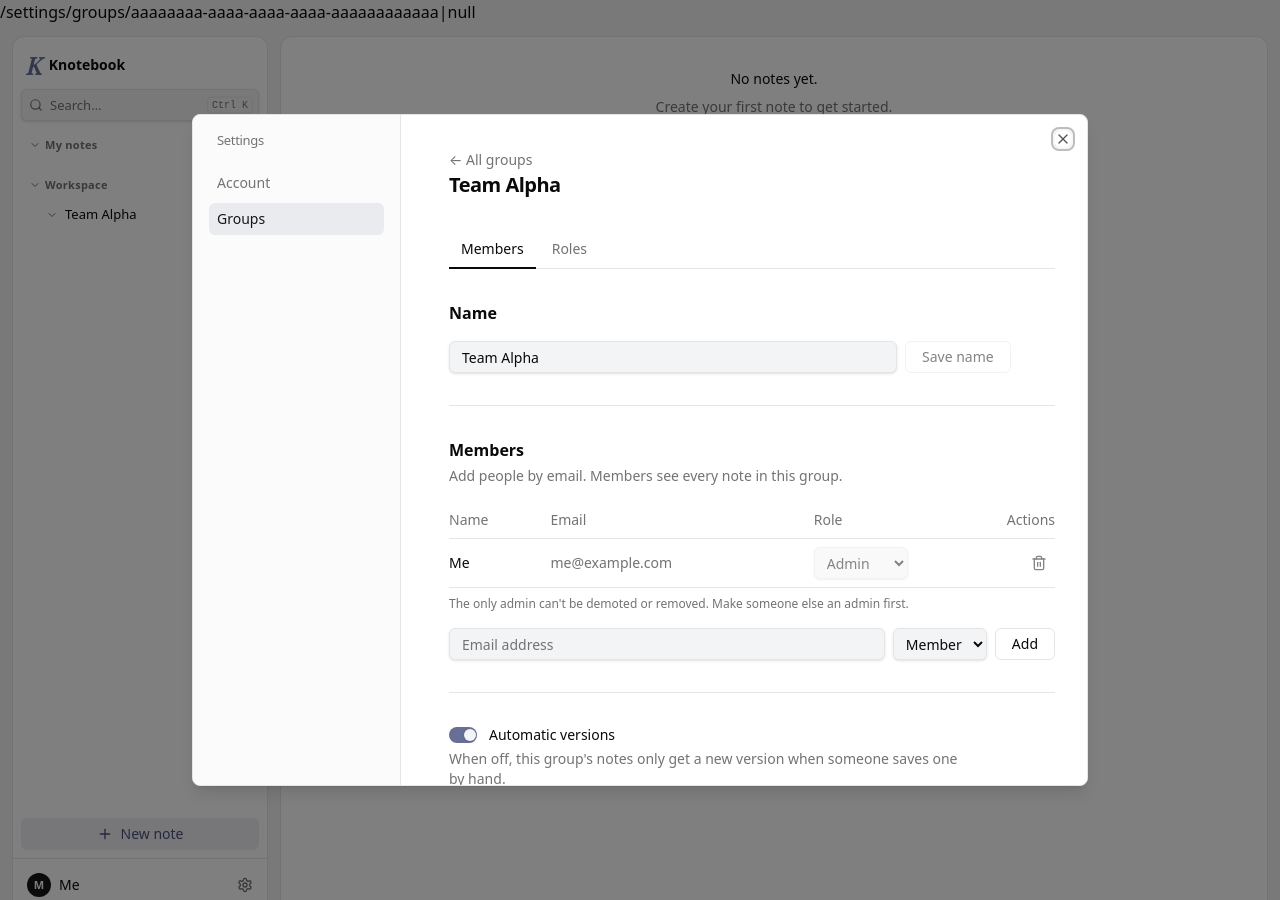
Test: SettingsGroupDetailSection（/settings/groups/:id，spec §8.5） › 加人：PUT {email, roleId}（下拉選管理員 → 管理員角色 id）→ 名單更新；送出後下拉回到內建一般成員的 id；409 already_member → 表單下 alert
The image size is (1280, 900).
Expected: the dropdown named "Role for new member" shows "Member", x1=893 y1=628 x2=987 y2=660
Type "carol@example.com" into the field labelled "Email address".
click(667, 644); type("carol@example.com")  # box x1=449 y1=628 x2=885 y2=660
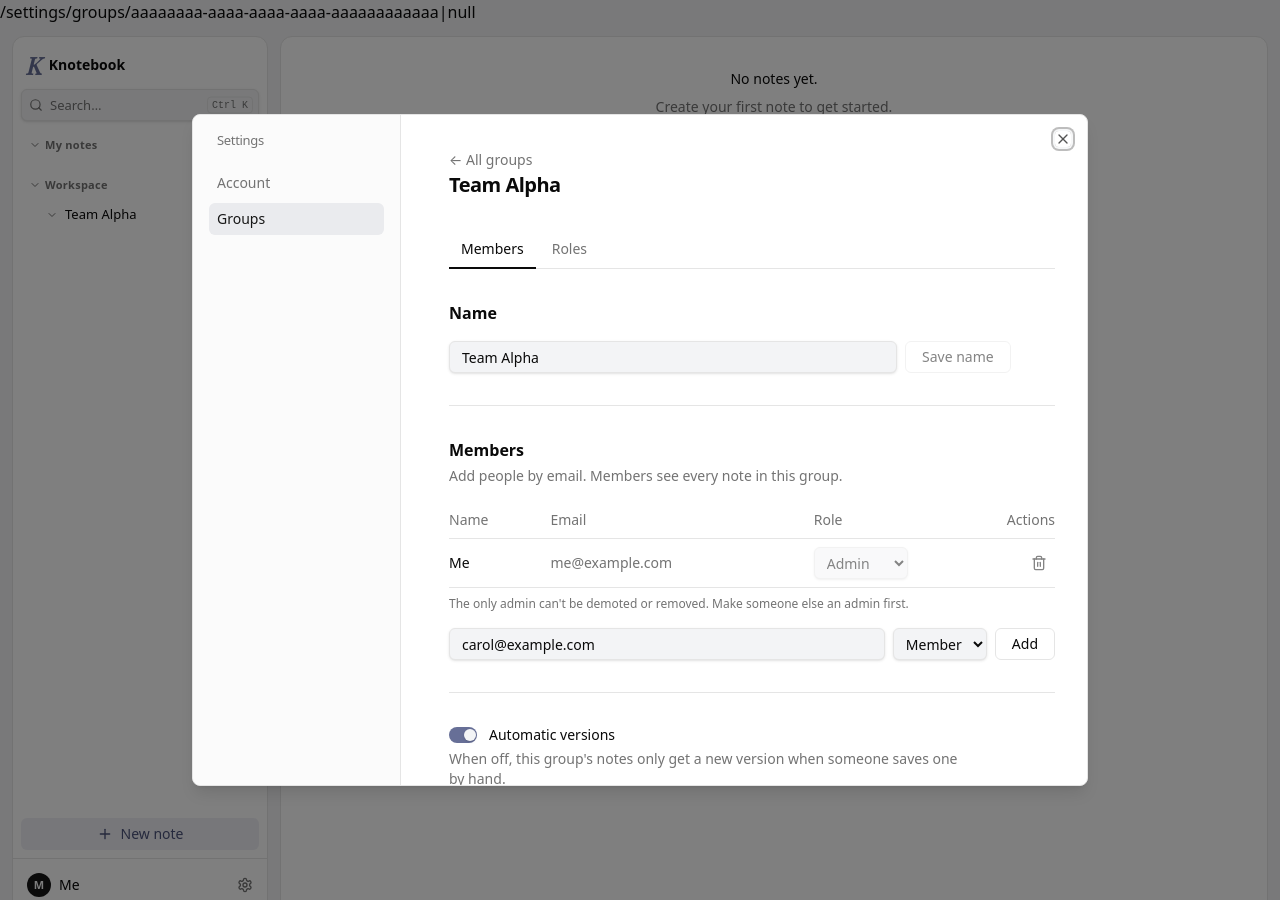
Select "Admin" in the dropdown named "Role for new member" at x=940, y=644, box x1=893 y1=628 x2=987 y2=660
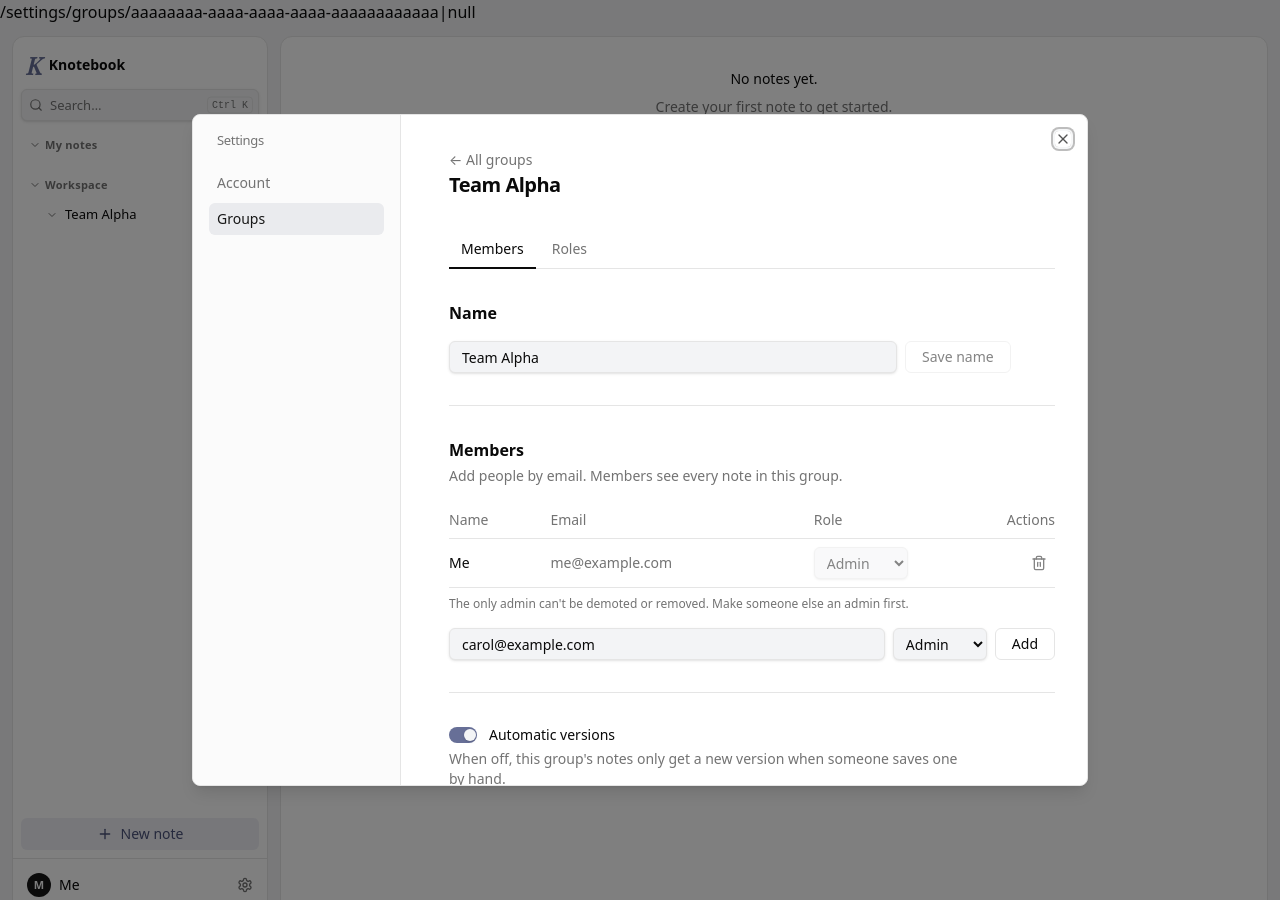
Click the button "Add".
click(1025, 644)  # box x1=995 y1=628 x2=1055 y2=660
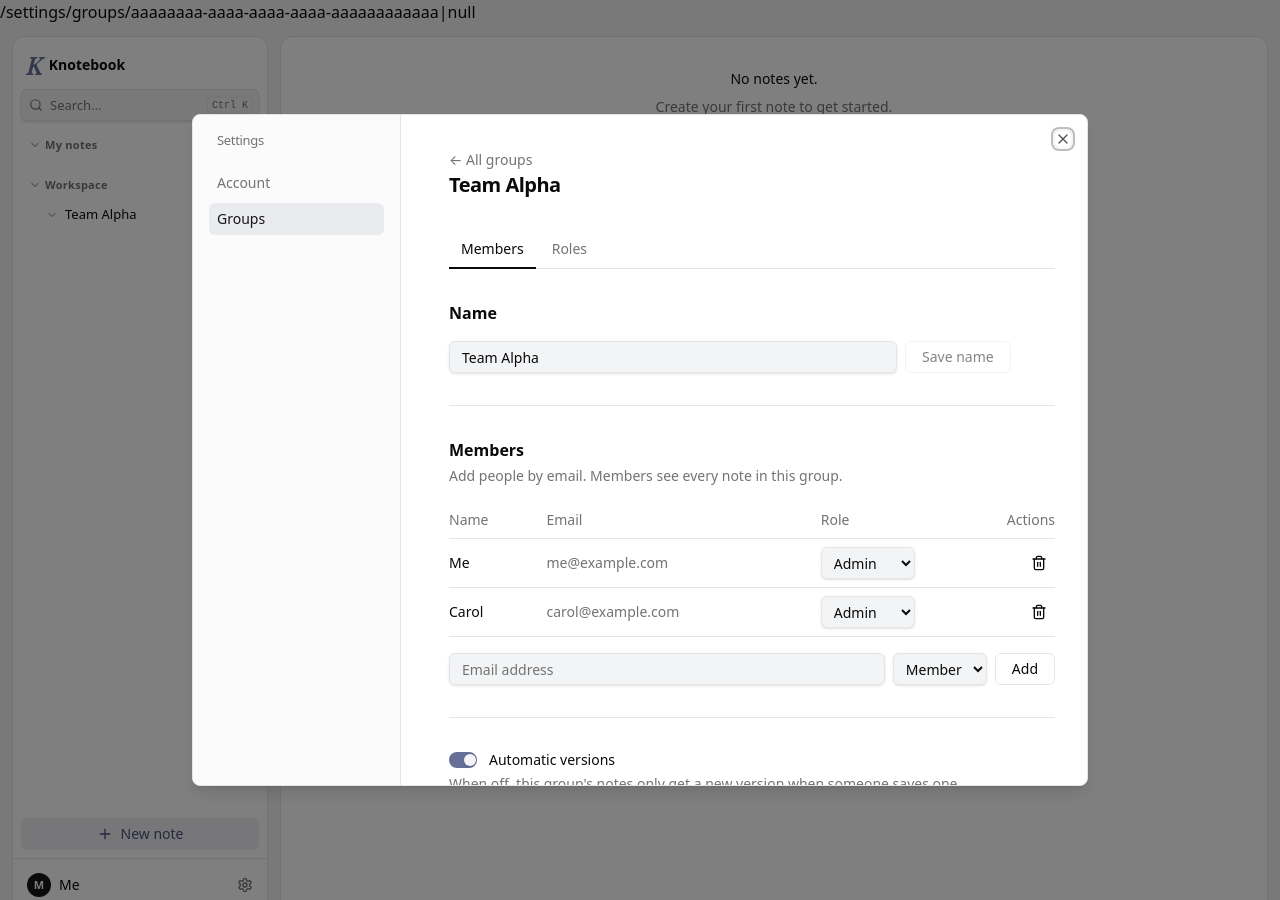
Expected: the text "carol@example.com" is shown, x1=546 y1=588 x2=821 y2=636
Expected: the dropdown named "Role for carol@example.com" shows "Admin", x1=821 y1=596 x2=915 y2=628
409 already_member → 表單下 alert；這一發用的是重設後的預設角色。
Type "dup@example.com" into the field labelled "Email address".
click(667, 669); type("dup@example.com")  # box x1=449 y1=653 x2=885 y2=685
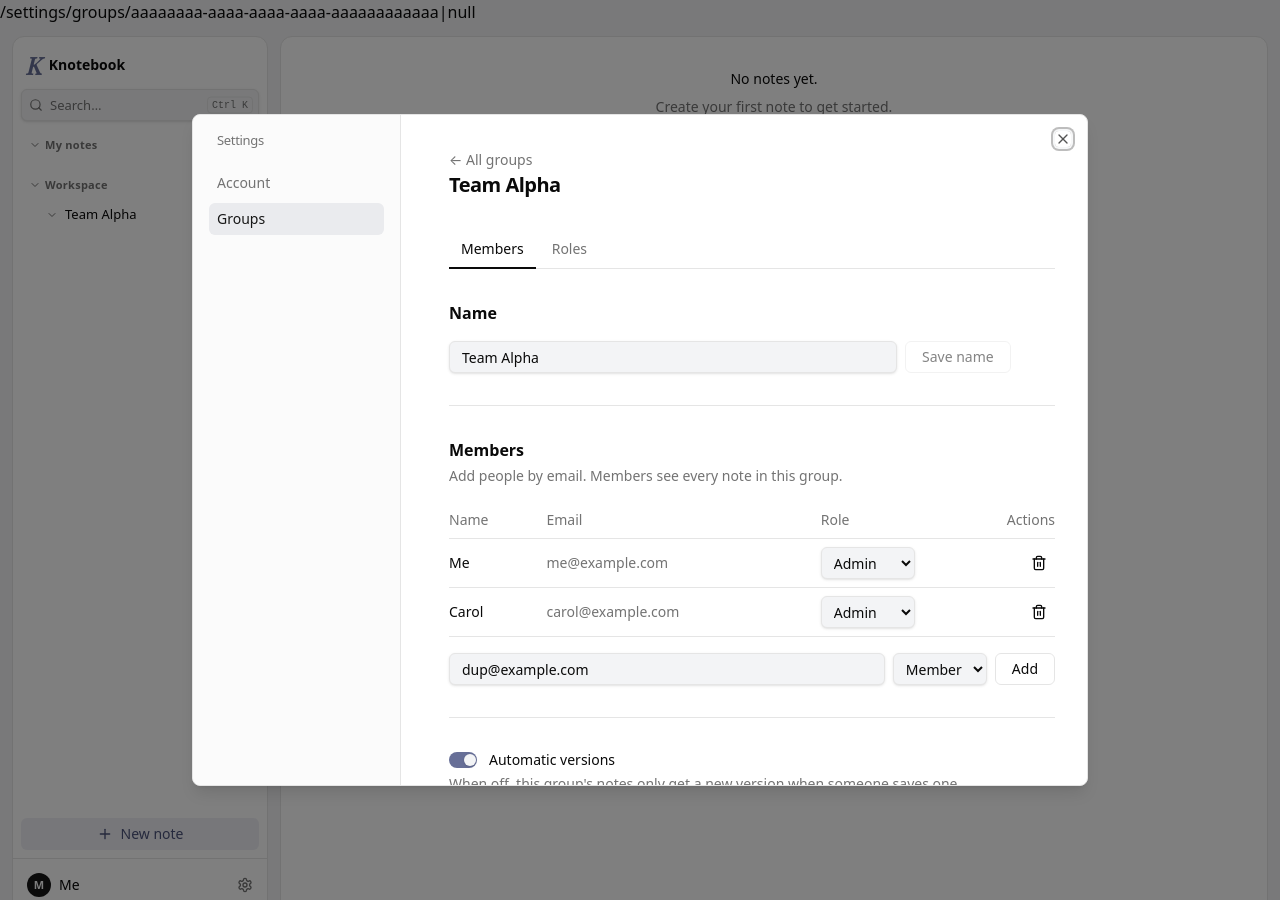
Click the button "Add".
click(1025, 669)  # box x1=995 y1=653 x2=1055 y2=685
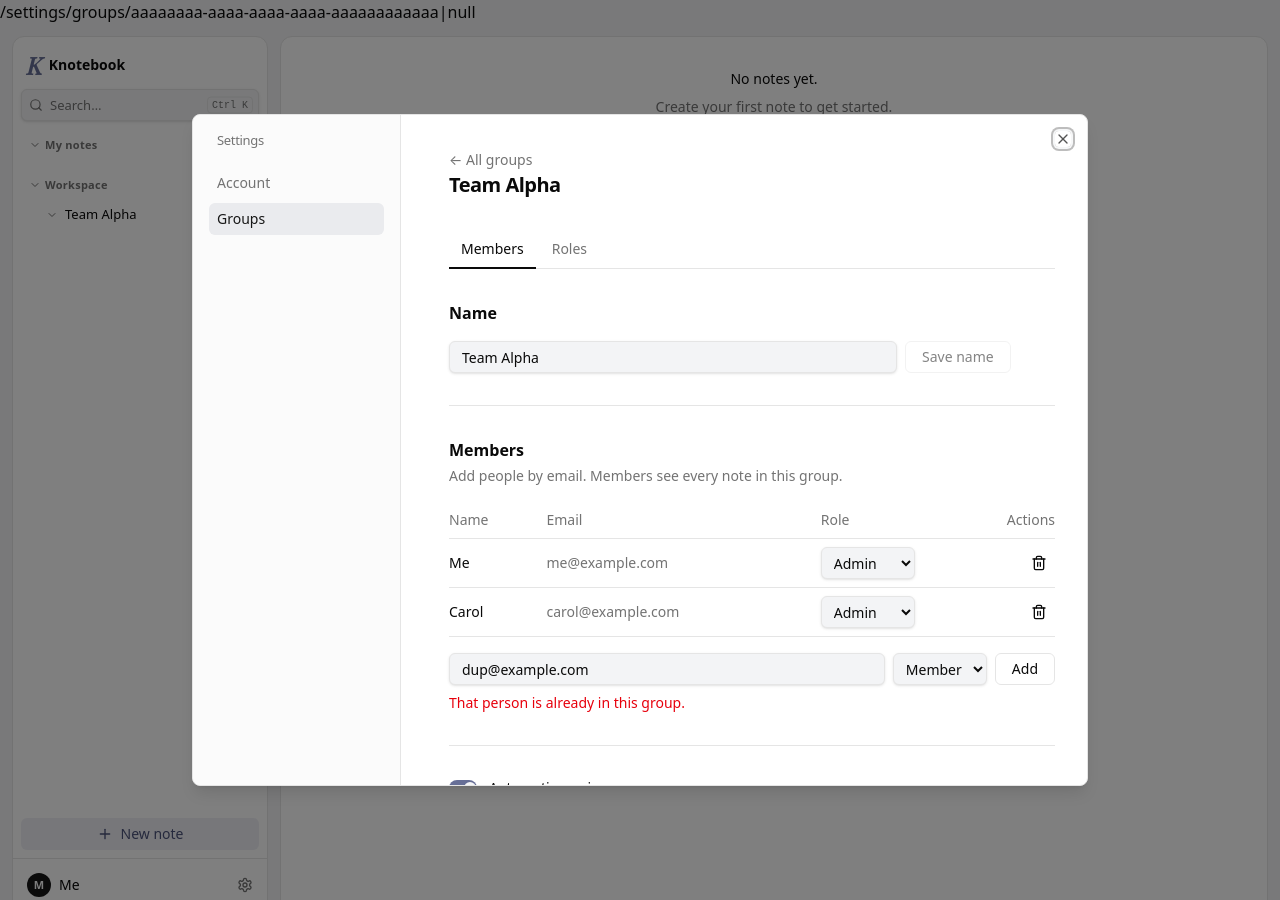
Expected: the message reads "That person is already in this group.", x1=449 y1=693 x2=685 y2=712
